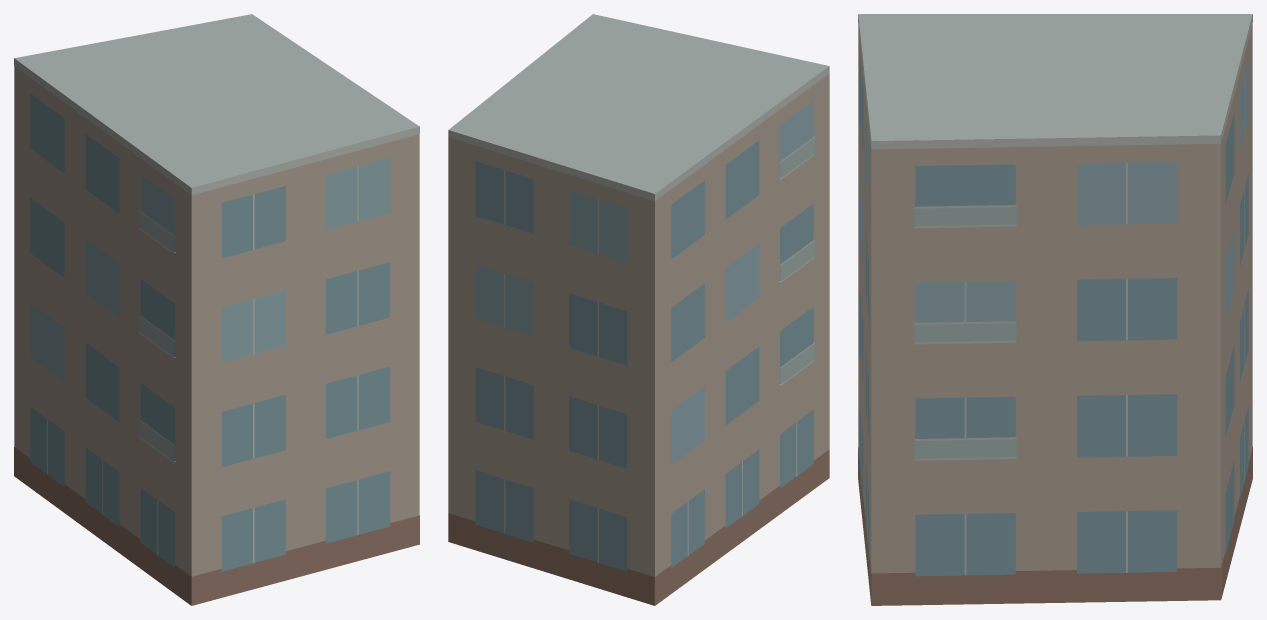
Rendered from survey-upis-32471752.glb.
3 views of the same model, side by side, from view 1: azimuth 30°, elevation 25°; view 2: azimuth 150°, elevation 25°; view 3: azimuth 270°, elevation 25° (orthographic). The views are drawn at different scales.
Parts seen in each view (by area): view 1: survey-upis-32471752.tmp; view 2: survey-upis-32471752.tmp; view 3: survey-upis-32471752.tmp.
Boxes of the visible parts, x1=… form: survey-upis-32471752.tmp: x1=14, y1=14, x2=419, y2=605; survey-upis-32471752.tmp: x1=448, y1=14, x2=829, y2=605; survey-upis-32471752.tmp: x1=858, y1=14, x2=1252, y2=605.
Size of the model in its own units: 8.05 by 13.65 by 10.51.
